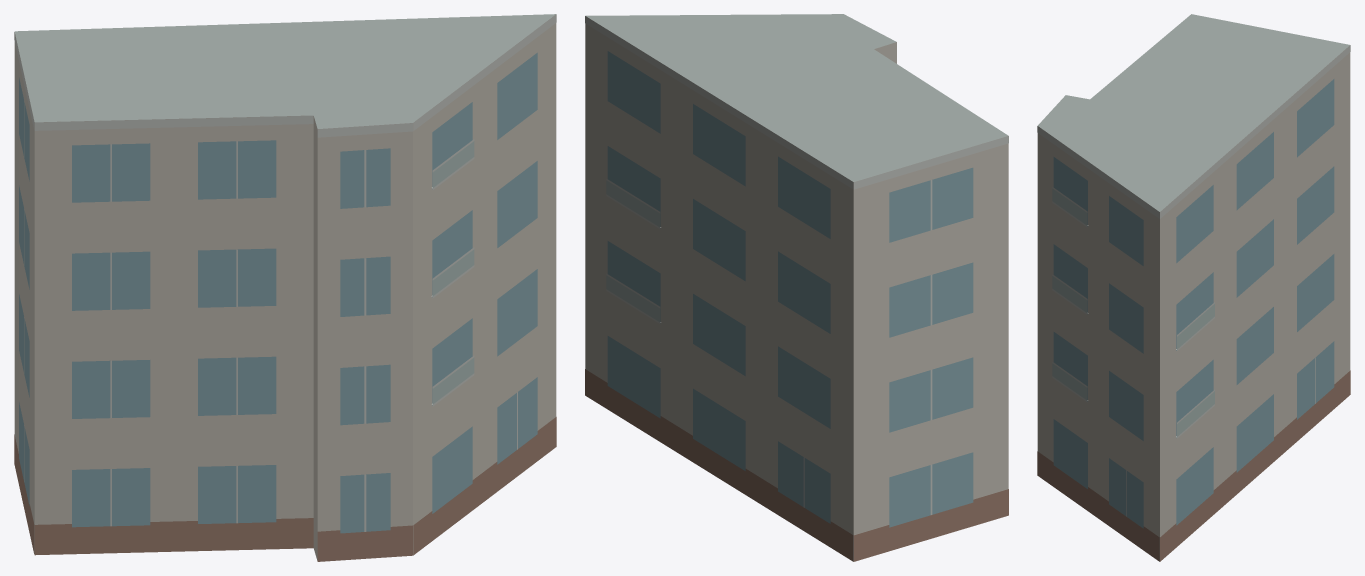
File: survey-upis-32725403.glb
3 views of the same model, side by side, from view 1: azimuth 30°, elevation 25°; view 2: azimuth 150°, elevation 25°; view 3: azimuth 270°, elevation 25° (orthographic). The views are drawn at different scales.
Parts seen in each view (by area): view 1: survey-upis-32725403.tmp; view 2: survey-upis-32725403.tmp; view 3: survey-upis-32725403.tmp.
Part boxes in pixels (x1=…): survey-upis-32725403.tmp: x1=14, y1=14, x2=556, y2=561; survey-upis-32725403.tmp: x1=585, y1=14, x2=1008, y2=561; survey-upis-32725403.tmp: x1=1037, y1=14, x2=1350, y2=561.
Bounding box in the file's own units: 14.95 × 12.3 × 9.98.
